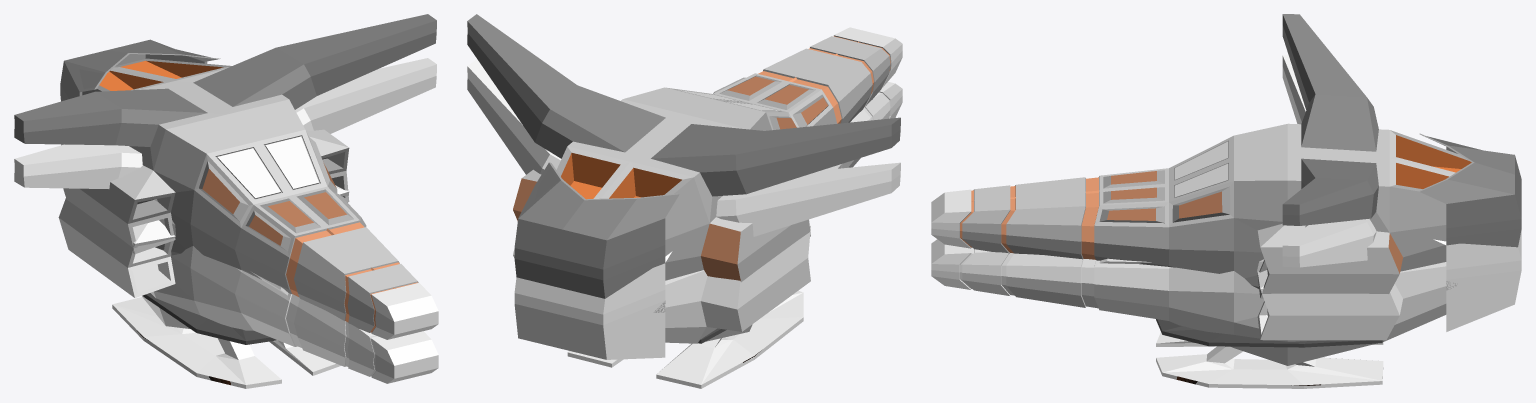
File: Ship_v2.0.1.fbx
The picture shows the model from 3 angles, left to right: view 1: azimuth 30°, elevation 25°; view 2: azimuth 150°, elevation 25°; view 3: azimuth 270°, elevation 25°; orthographic projection. The views are drawn at different scales.
Parts seen in each view (by area): view 1: Корабль_v2, Корабль; view 2: Корабль_v2, Корабль; view 3: Корабль_v2, Корабль.
Boxes of the visible parts, bbox=[...] form: Корабль_v2: bbox=[14, 14, 438, 344]; Корабль: bbox=[14, 58, 438, 388]; Корабль_v2: bbox=[467, 14, 902, 343]; Корабль: bbox=[467, 59, 902, 388]; Корабль_v2: bbox=[931, 14, 1521, 347]; Корабль: bbox=[931, 55, 1521, 388].
Bounding box in the file's own units: 16.76 × 21.96 × 10.08.
